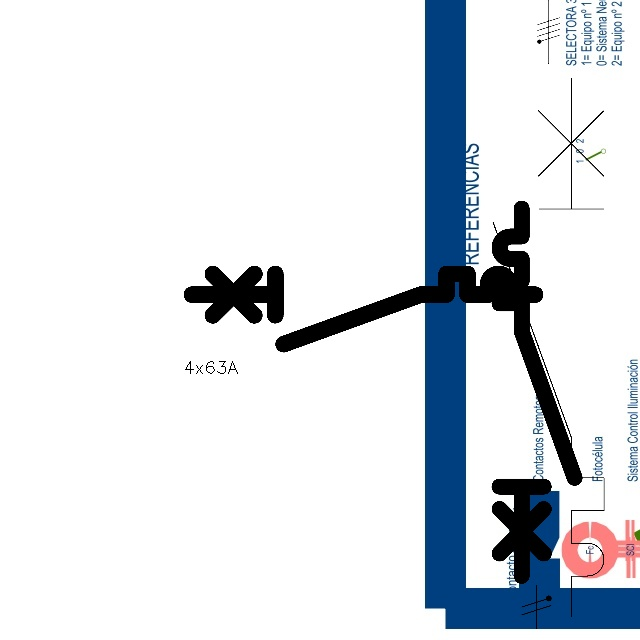interruptor_termomagnetico: (479, 64, 618, 631), (490, 199, 584, 586), (183, 265, 544, 353)
